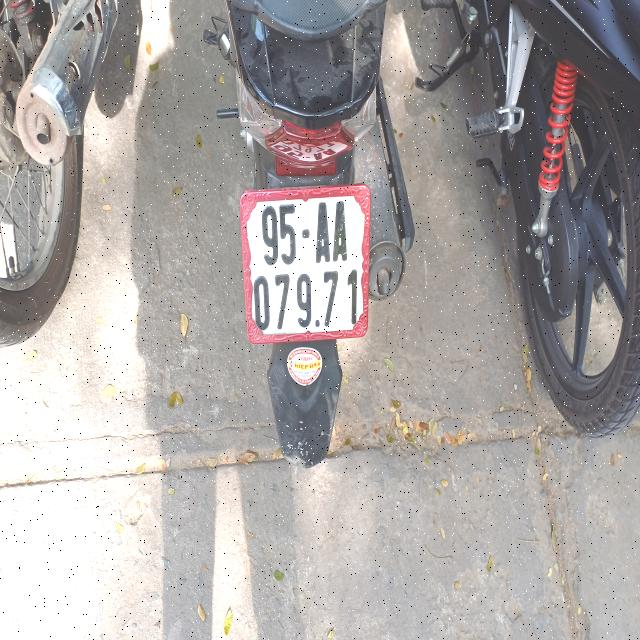0: (252, 276, 271, 330)
1: (346, 267, 360, 325)
5: (278, 203, 298, 266)
7: (273, 273, 291, 330), (322, 269, 338, 325)
9: (260, 203, 279, 266), (297, 270, 312, 328)
A: (313, 202, 332, 268), (334, 202, 348, 264)
